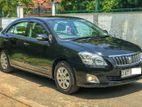car: (0, 16, 142, 93)
